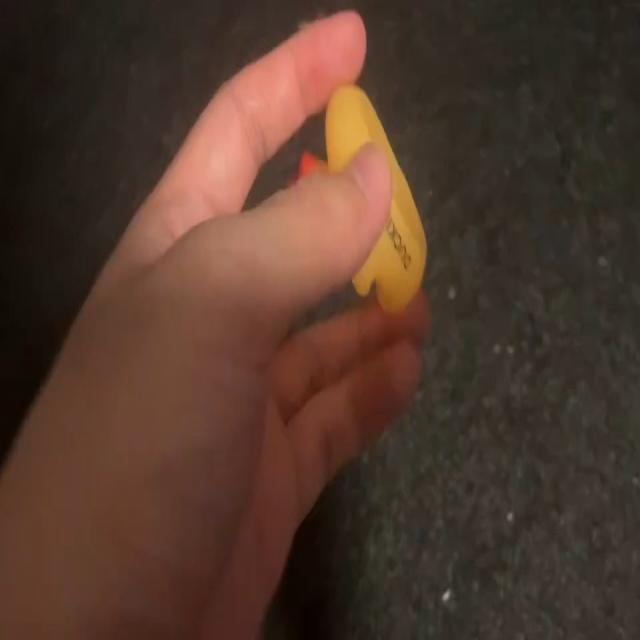rubber-duck: (325, 84, 425, 310)
